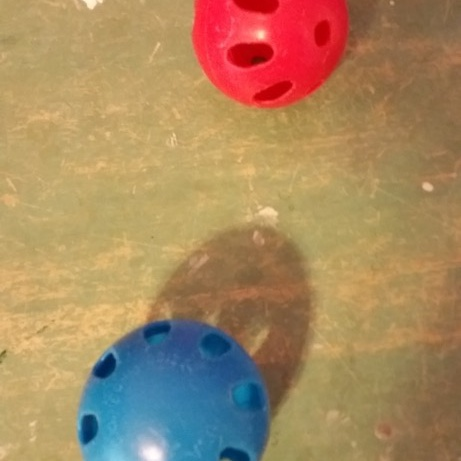blueball: (72, 315, 278, 461)
redball: (188, 0, 354, 111)
